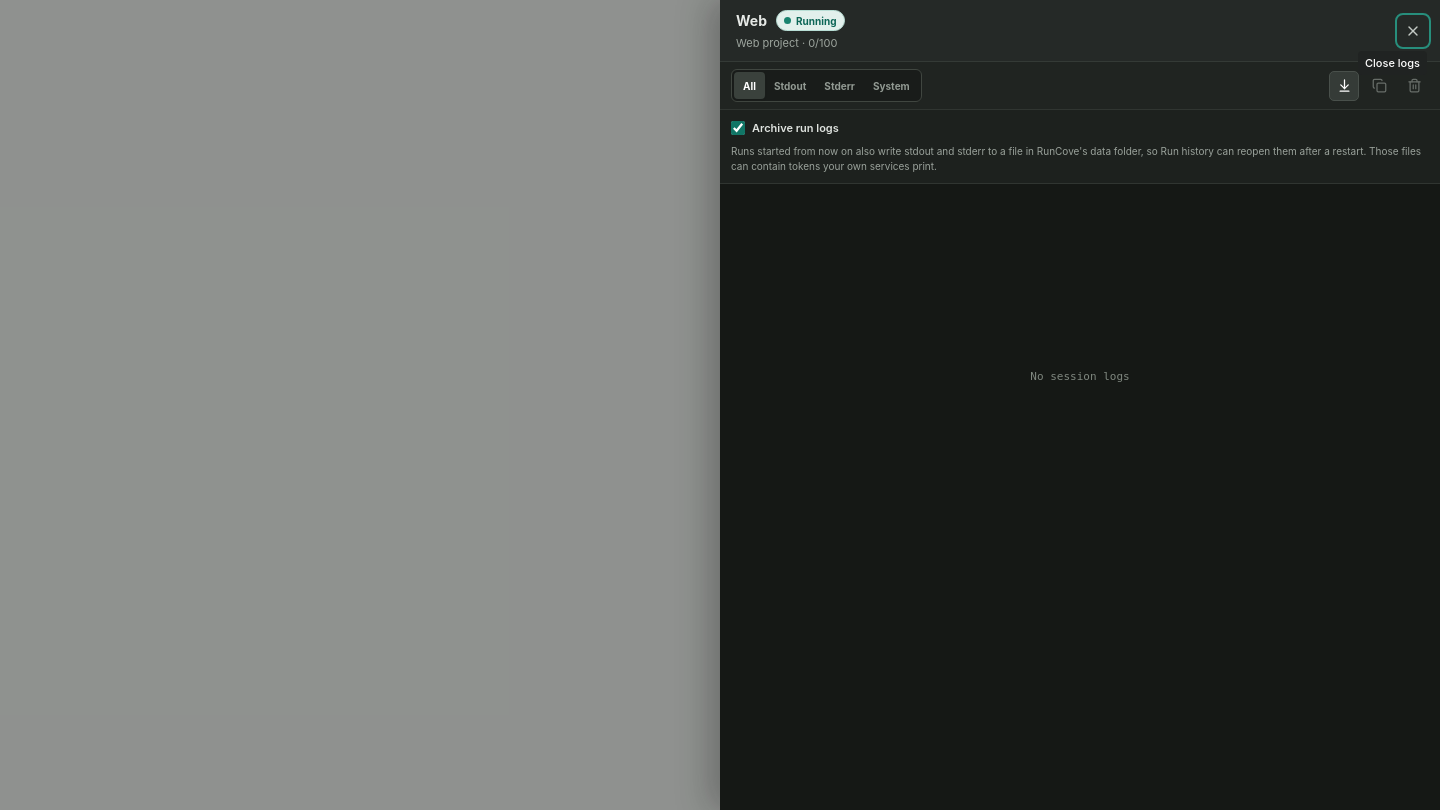
Scenario: LogDrawer run log archiving › says that disabling leaves open archives to finish
Click the checkbox labelled "Archive run logs" at (738, 128), box [731,121,745,135]
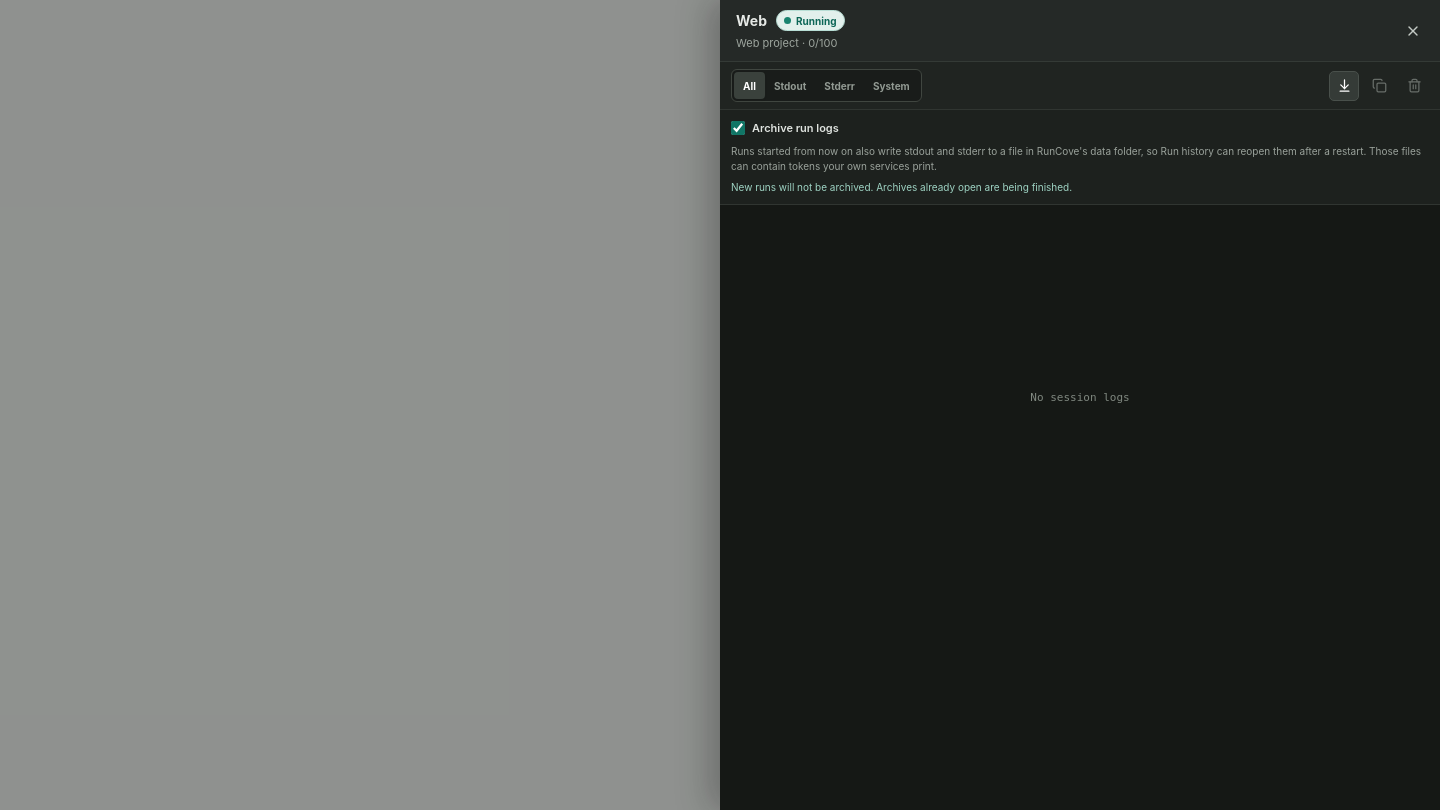
expect the text "New runs will not be archived. Archives already open are being finished." is shown: met, box [731,181,1072,193]
